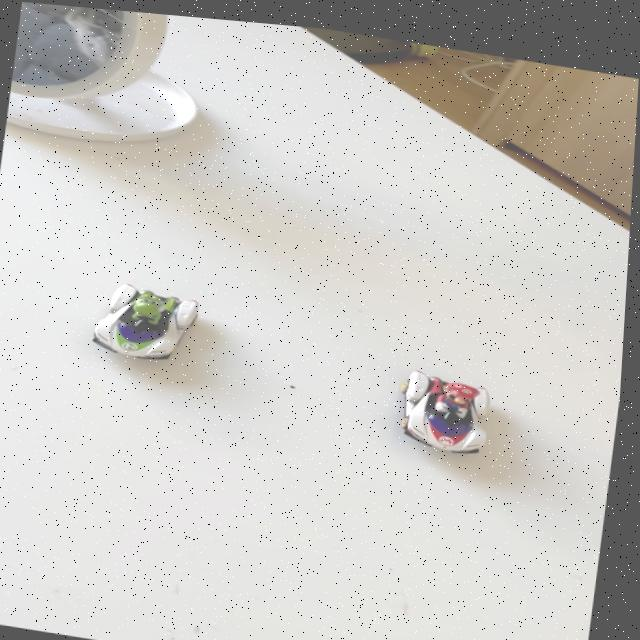mario: (393, 356, 509, 458)
yoshi: (80, 264, 222, 372)
